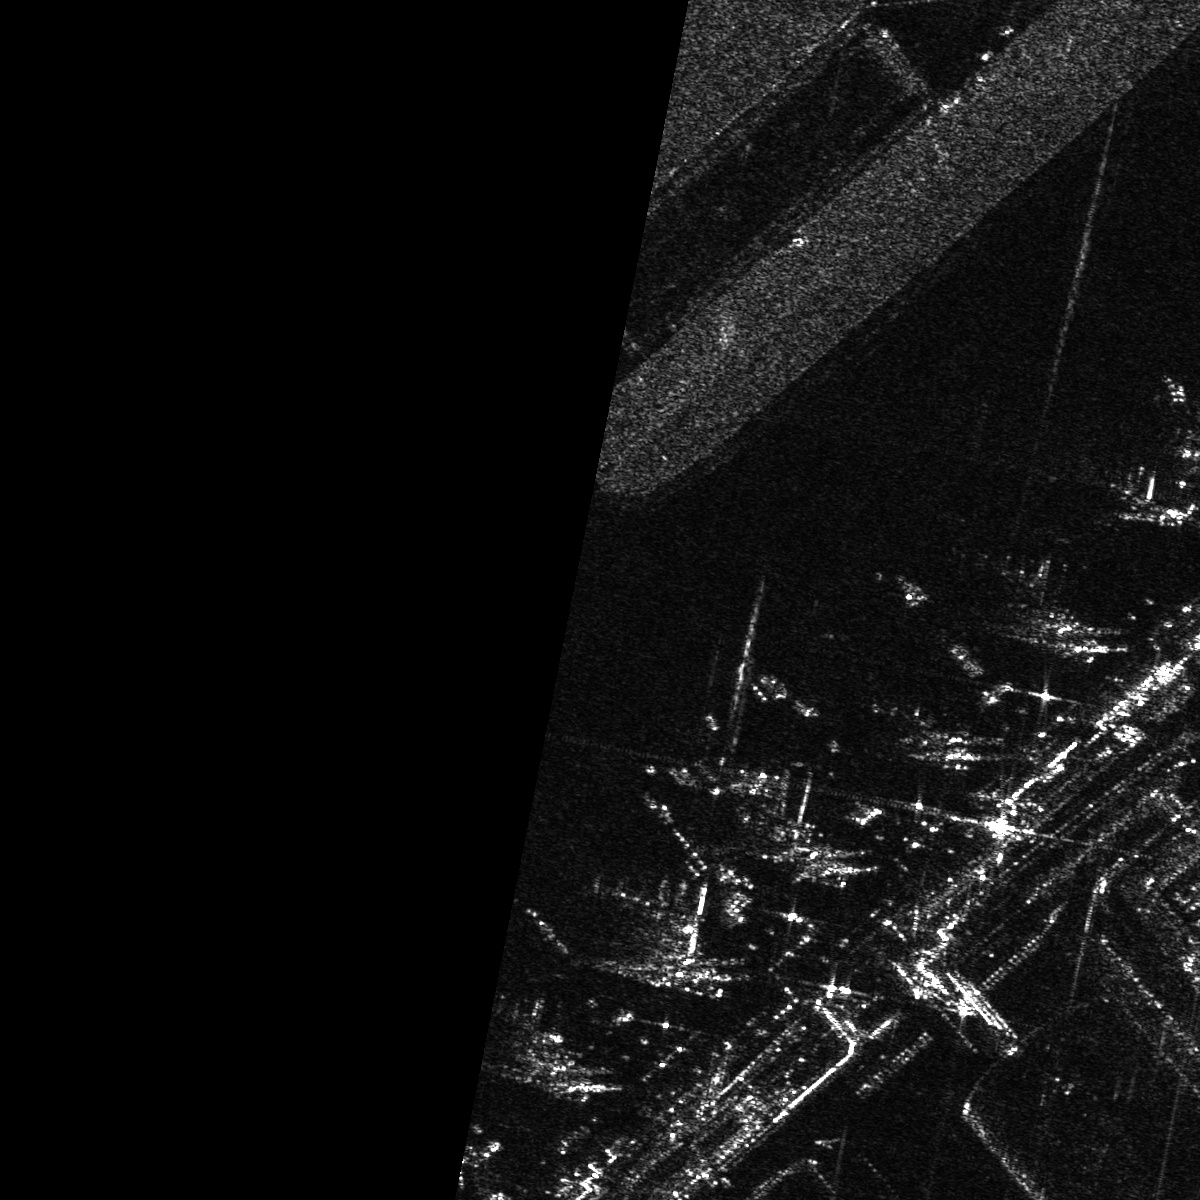Boeing737: (956, 549, 1064, 646), (498, 988, 584, 1081), (1105, 464, 1189, 529)
Boeing787: (592, 866, 709, 989), (704, 754, 811, 842)
